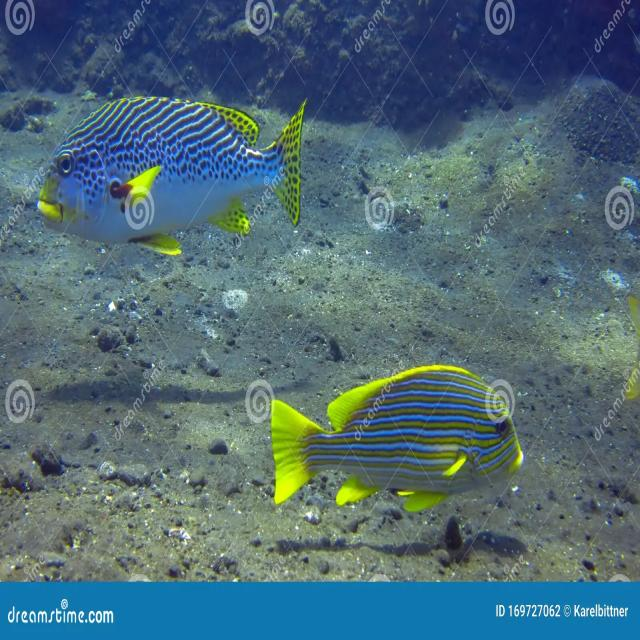RibbonedSweetlips: (35, 92, 308, 257), (269, 362, 524, 513)
